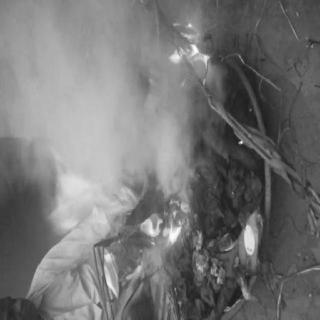Smoke: (51, 41, 135, 159)
